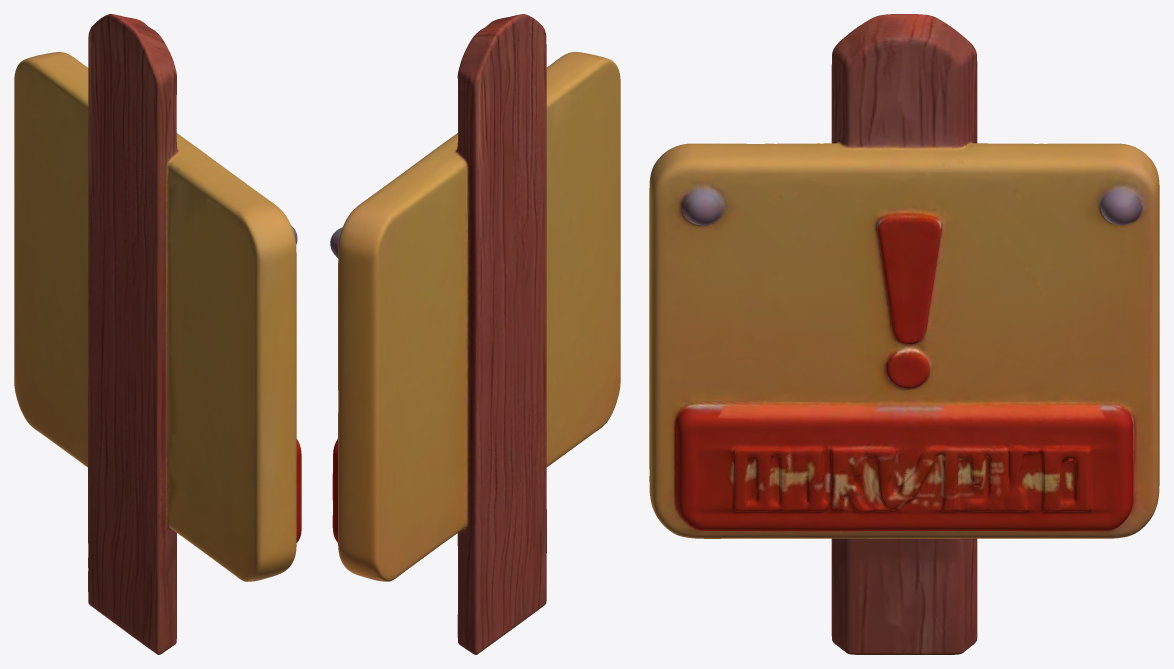
The model's file is warning_sign.glb.
The picture shows the model from 3 angles, left to right: view 1: azimuth 30°, elevation 25°; view 2: azimuth 150°, elevation 25°; view 3: azimuth 270°, elevation 25°; orthographic projection. The views are drawn at different scales.
Visible parts, largest first — view 1: tripo_node_6c944d76-662c-4b42-88e3-197351227aca; view 2: tripo_node_6c944d76-662c-4b42-88e3-197351227aca; view 3: tripo_node_6c944d76-662c-4b42-88e3-197351227aca.
Part boxes in pixels (bbox=[...]): tripo_node_6c944d76-662c-4b42-88e3-197351227aca: bbox=[14, 14, 301, 654]; tripo_node_6c944d76-662c-4b42-88e3-197351227aca: bbox=[330, 14, 620, 654]; tripo_node_6c944d76-662c-4b42-88e3-197351227aca: bbox=[649, 14, 1159, 654].
Bounding box in the file's own units: 0.1293 × 0.9492 × 0.6983.
Materials: 1 (1 with a texture image).
